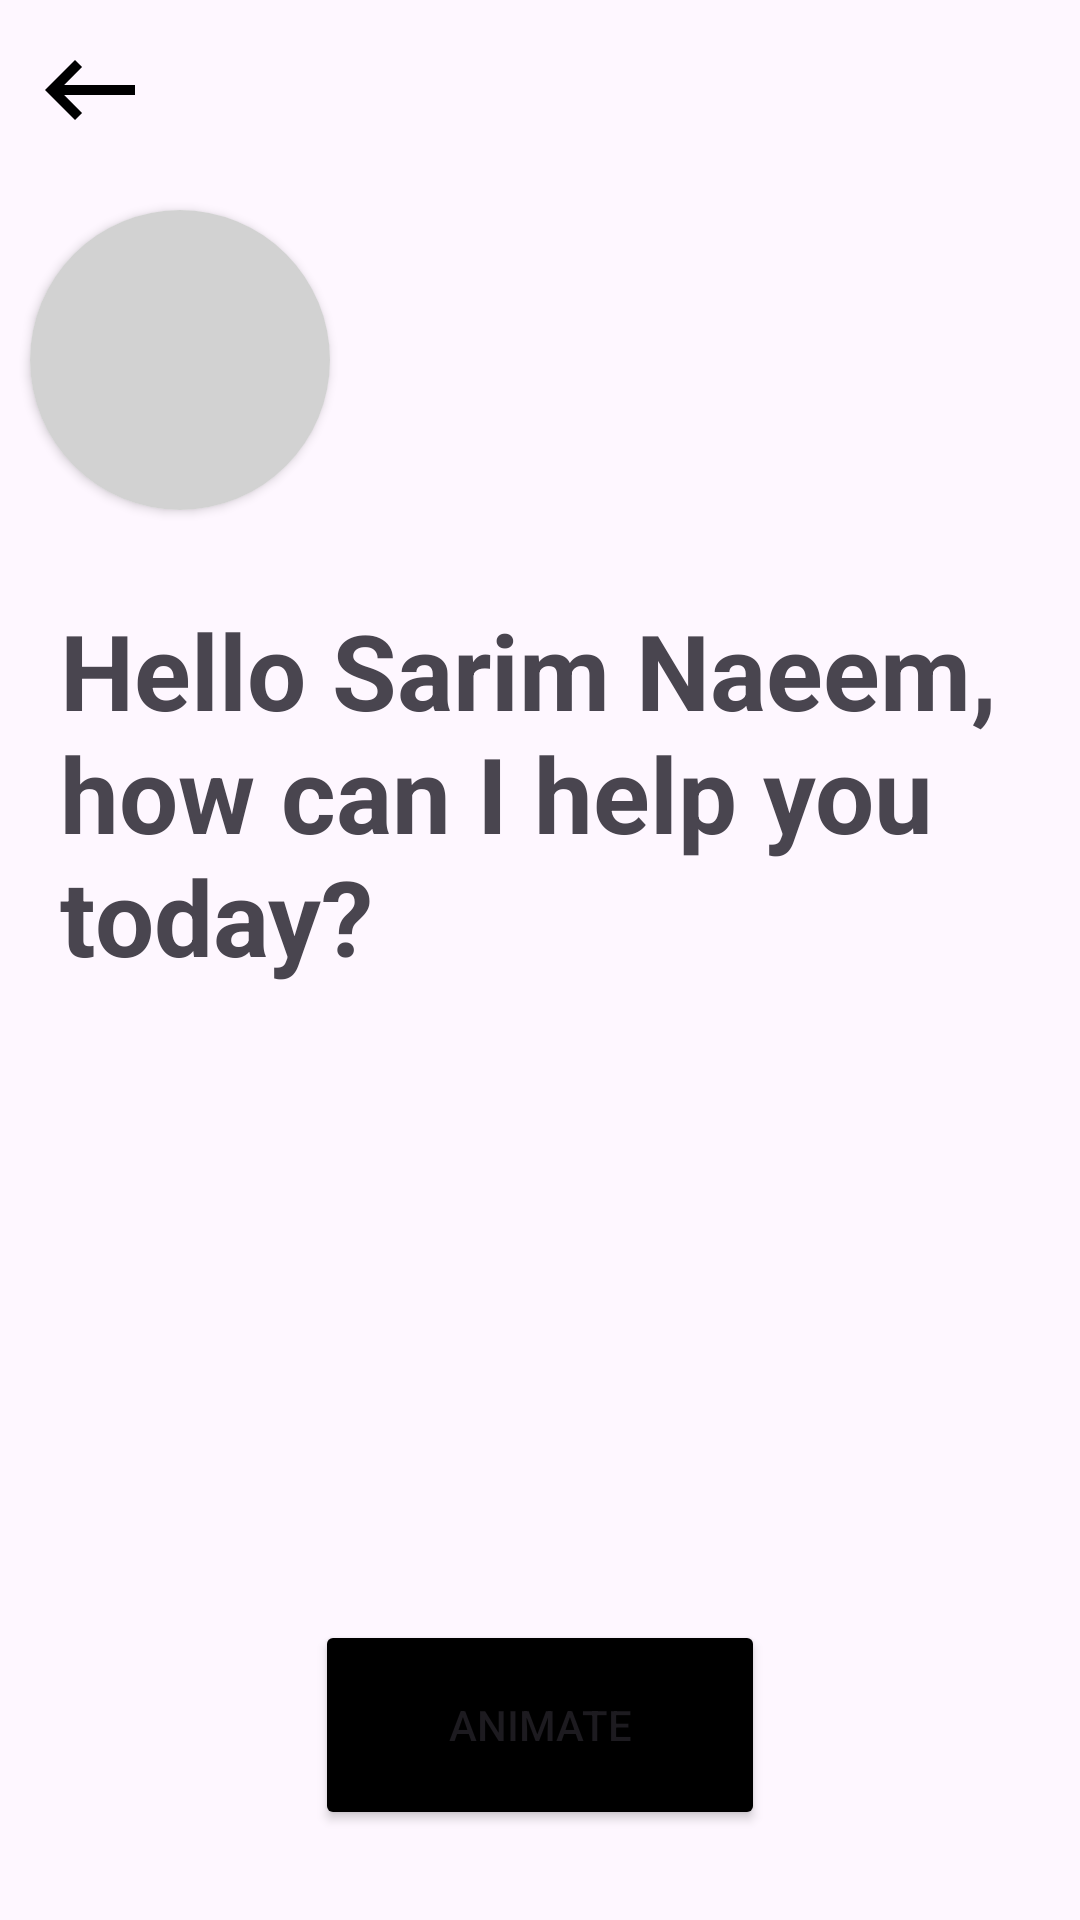

Named icons in this screenshot (1080x1920) and their bounding boxes, detection(x1, y1, x2, y2):
keyboard backspace: detection(45, 60, 135, 120)
